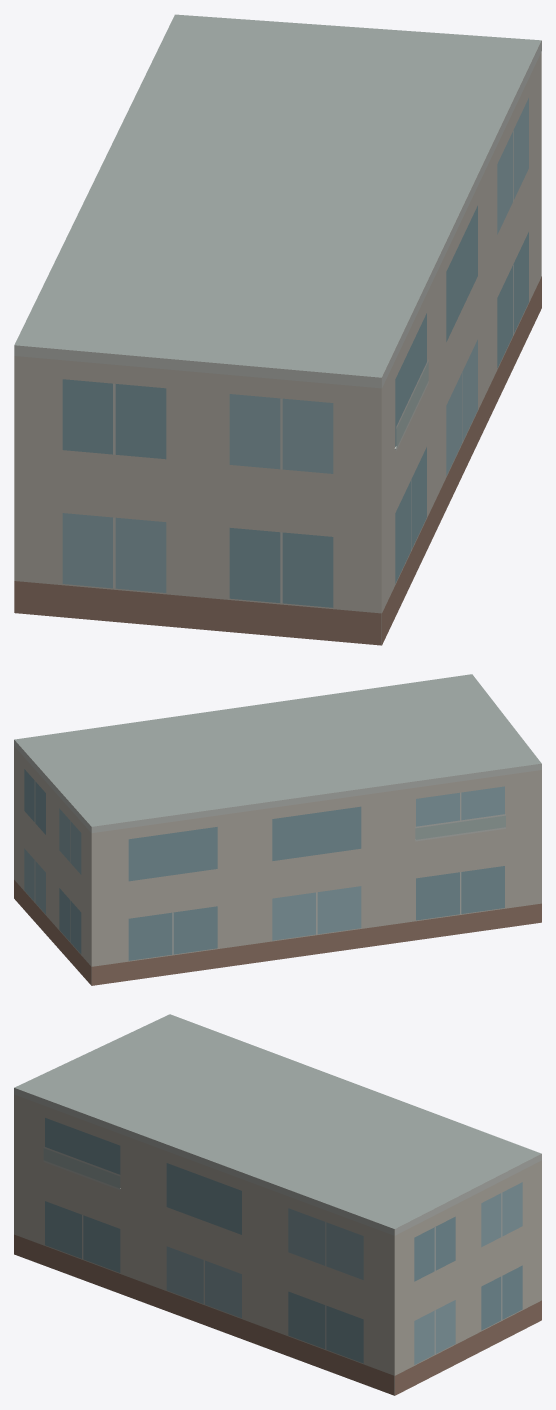
Rendered from survey-upis-32995850.glb.
3 renders of one model, top to bottom at view 1: azimuth 30°, elevation 25°; view 2: azimuth 150°, elevation 25°; view 3: azimuth 270°, elevation 25°, orthographic. The views are drawn at different scales.
Parts seen in each view (by area): view 1: survey-upis-32995850.tmp; view 2: survey-upis-32995850.tmp; view 3: survey-upis-32995850.tmp.
Boxes of the visible parts, left/top/right/bottom form: survey-upis-32995850.tmp: left=14, top=14, right=541, bottom=645; survey-upis-32995850.tmp: left=14, top=674, right=541, bottom=985; survey-upis-32995850.tmp: left=14, top=1014, right=541, bottom=1395.
Size of the model in its own units: 16.89 by 6.1 by 17.52.
